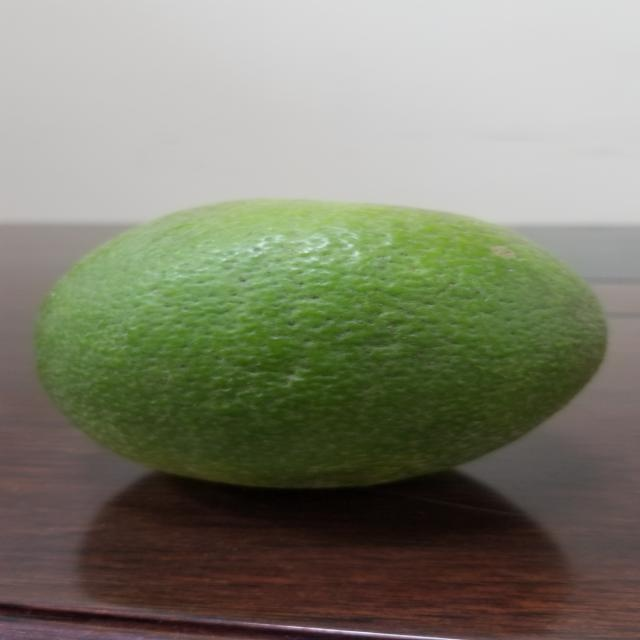agrume: (13, 193, 640, 496)
